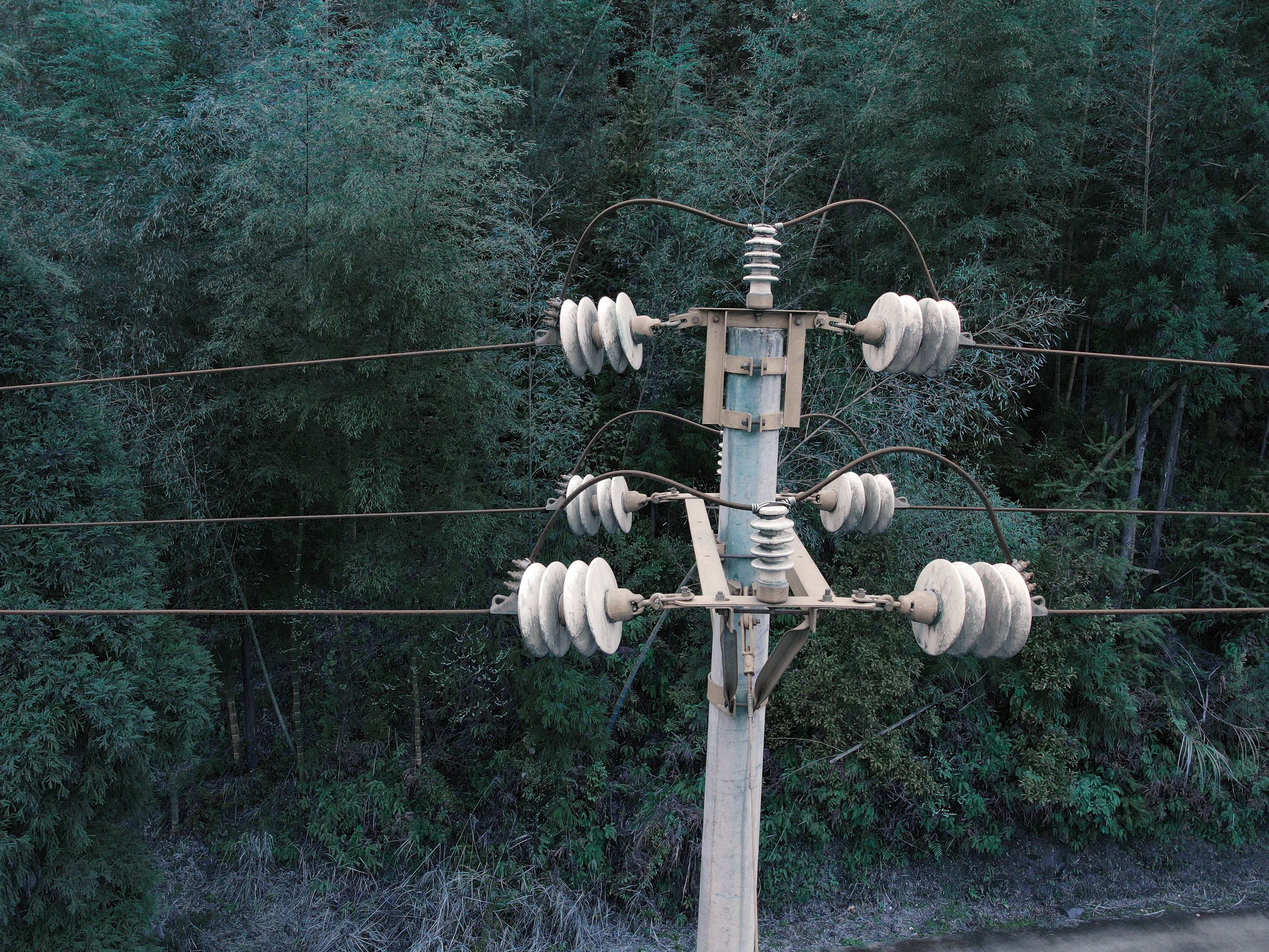severe_soiling_no_discharge_whole: (902, 553, 1036, 661), (515, 554, 645, 659), (857, 290, 965, 380), (558, 288, 659, 379), (815, 468, 898, 538), (562, 471, 650, 537), (746, 503, 798, 602), (740, 224, 784, 305)
